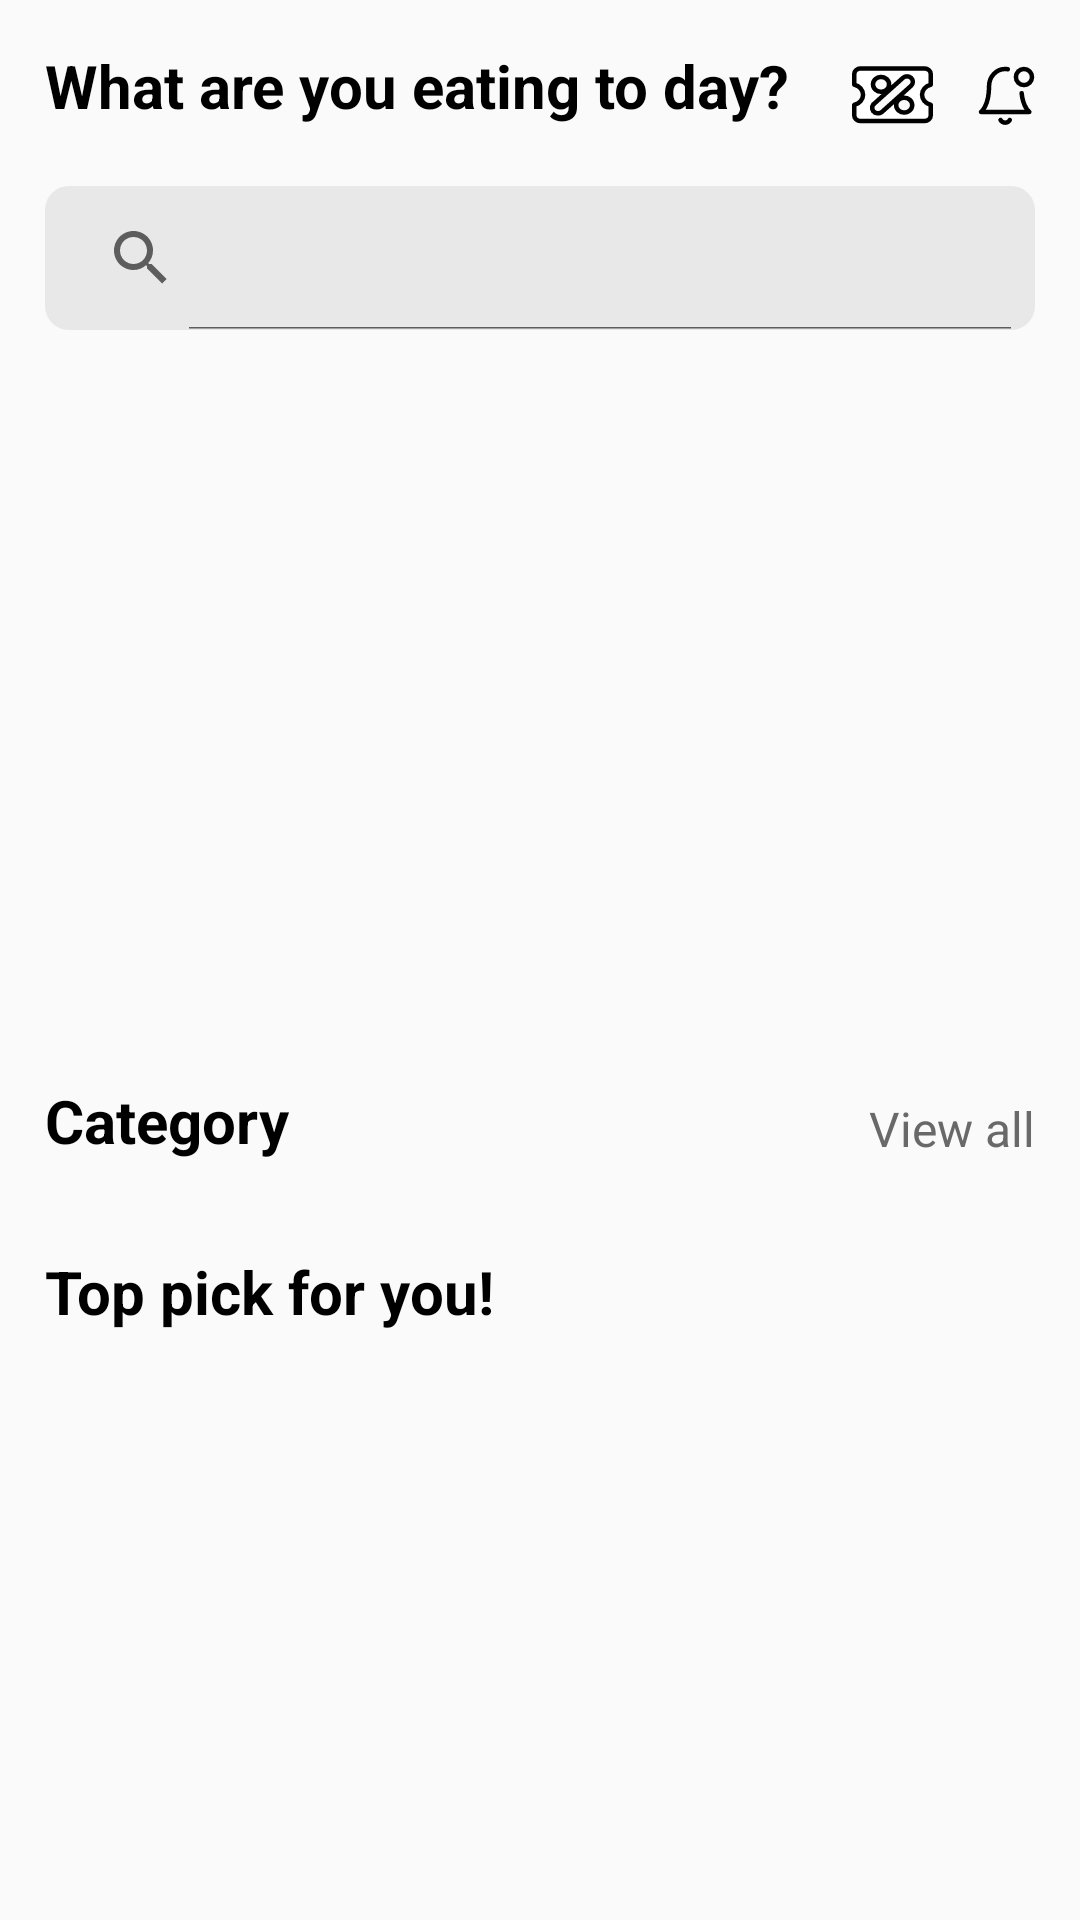

Screen size 1080x1920. Icon name, then its center in pixels as point (x, y):
coupon: point (892, 95)
notify: point (1006, 95)
